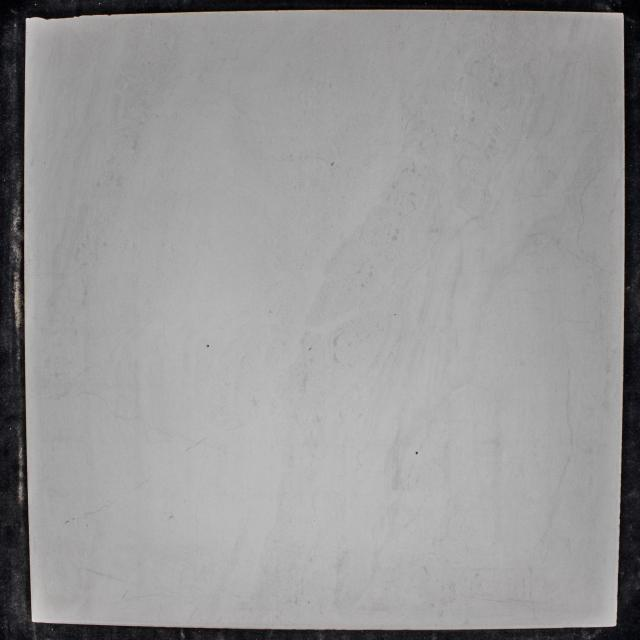edge-chipping: (25, 14, 83, 20)
hole: (206, 344, 210, 348), (415, 451, 419, 455)
